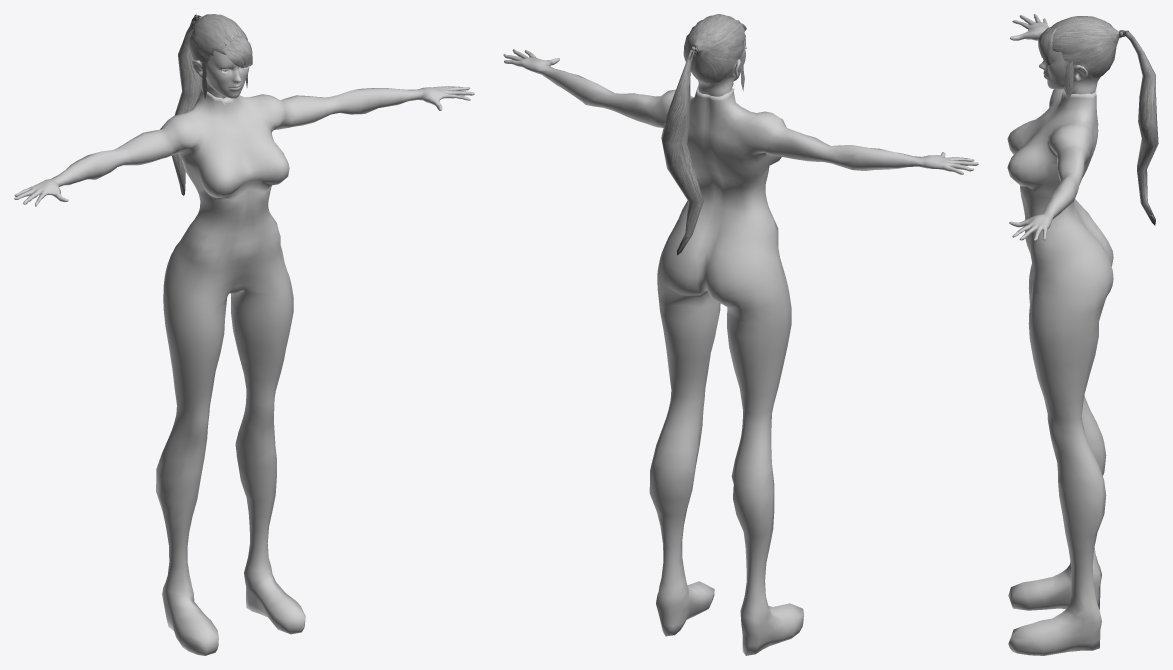
File: samus.fbx
The picture shows the model from 3 angles, left to right: view 1: azimuth 30°, elevation 25°; view 2: azimuth 150°, elevation 25°; view 3: azimuth 270°, elevation 25°; orthographic projection. The views are drawn at different scales.
Visible parts, largest first — view 1: Body, Hair, Samus; view 2: Body, Hair, Samus; view 3: Body, Hair, Samus.
Part boxes in pixels (box(x1,y1,x2,y2)): Body: box(14, 86, 474, 655); Hair: box(172, 14, 252, 195); Samus: box(192, 20, 249, 98); Body: box(503, 49, 978, 655); Hair: box(661, 14, 746, 255); Samus: box(697, 19, 746, 96); Body: box(1007, 14, 1113, 655); Hair: box(1038, 16, 1158, 225); Samus: box(1039, 18, 1100, 94).
Bounding box in the file's own units: 471 × 595 × 133.
